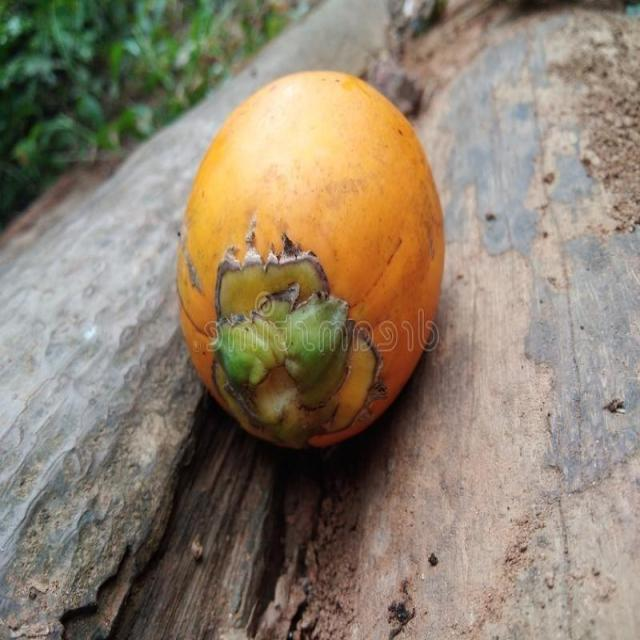good: (175, 70, 445, 453)
